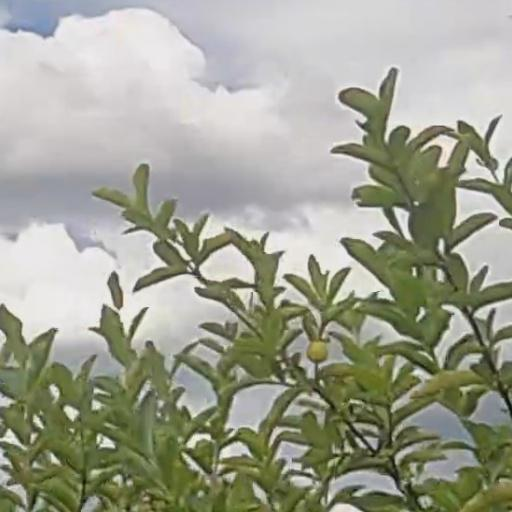acerola: (308, 342, 326, 362)
